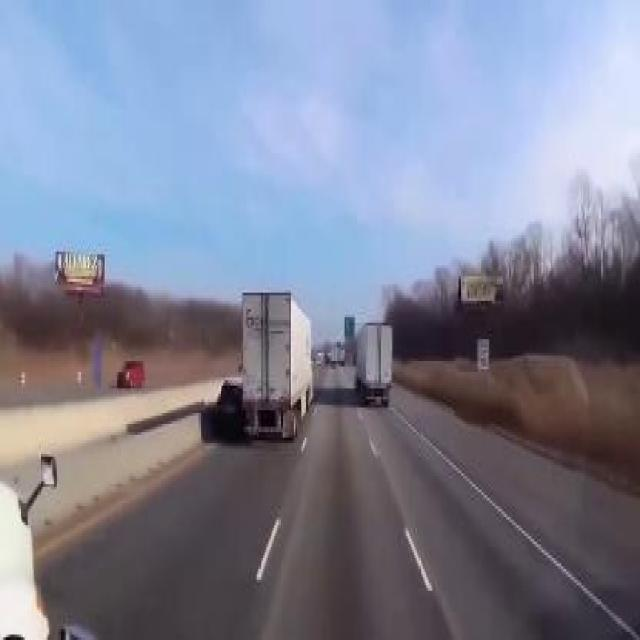accident: (210, 276, 318, 443)
